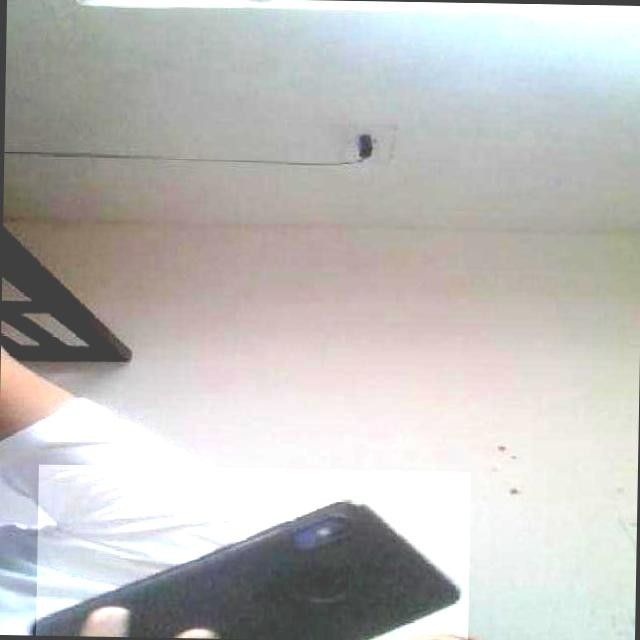lens_back: (326, 516, 344, 534), (296, 529, 314, 547)
phone: (33, 464, 469, 640)
